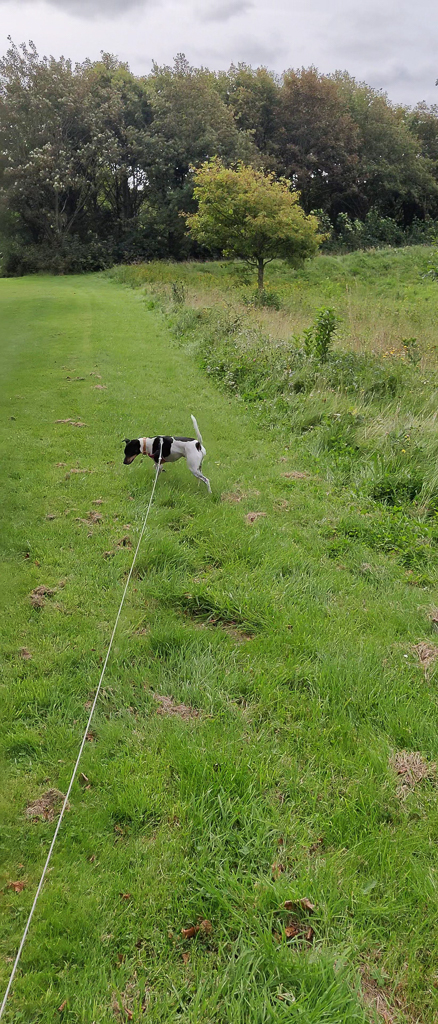Dog: (115, 411, 222, 502)
